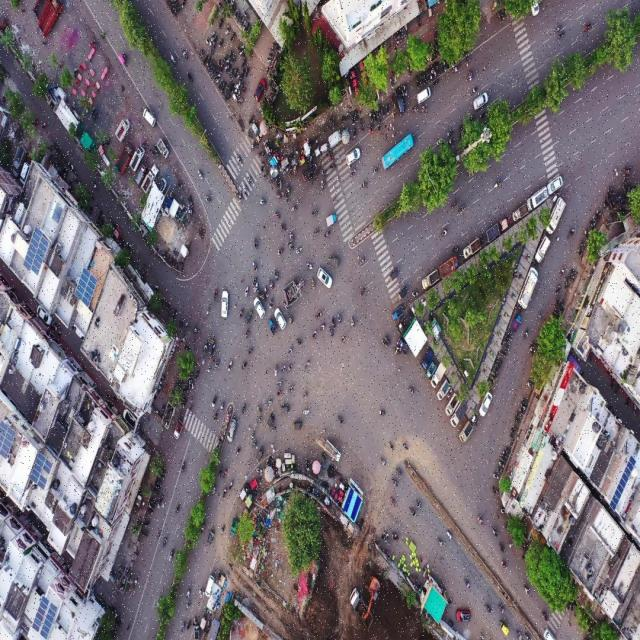3W: (499, 618, 510, 638), (328, 254, 341, 270), (325, 213, 338, 228), (116, 51, 127, 68), (397, 285, 408, 301), (388, 267, 398, 284), (207, 529, 216, 547), (245, 309, 254, 327), (292, 420, 303, 432), (266, 413, 275, 427), (256, 448, 264, 463), (279, 405, 291, 415), (208, 339, 215, 354)
Bus: (380, 132, 416, 171)
Cars: (534, 237, 550, 264), (317, 266, 333, 292), (226, 416, 239, 445), (141, 105, 156, 129), (548, 173, 564, 195), (470, 93, 489, 111), (345, 146, 361, 167), (253, 78, 267, 101), (480, 391, 492, 416), (252, 299, 266, 320), (395, 87, 405, 115), (275, 307, 287, 329), (221, 288, 229, 319), (455, 608, 471, 623), (206, 573, 216, 596), (416, 88, 431, 103)
LCV: (518, 267, 539, 310), (545, 198, 567, 233), (528, 184, 549, 213), (140, 165, 158, 193), (439, 255, 458, 280), (432, 361, 447, 389), (422, 269, 440, 292), (462, 237, 481, 258), (131, 143, 145, 170), (115, 116, 130, 141), (460, 420, 474, 445), (445, 392, 458, 417), (510, 204, 529, 221), (157, 137, 169, 162), (396, 313, 410, 334), (437, 380, 450, 400), (421, 349, 434, 369), (328, 129, 341, 148), (397, 337, 408, 356), (391, 305, 404, 321), (426, 362, 436, 381), (512, 315, 522, 333), (174, 421, 183, 440)
M2W: (457, 202, 466, 216), (314, 307, 322, 322), (408, 505, 416, 520), (492, 179, 502, 191), (554, 20, 564, 32), (407, 385, 416, 398), (390, 476, 399, 489), (440, 226, 449, 239), (567, 228, 576, 241), (349, 315, 356, 331), (541, 609, 549, 623), (288, 232, 297, 244), (497, 603, 506, 615), (476, 515, 485, 527), (379, 408, 388, 420), (514, 628, 523, 640), (309, 276, 316, 291), (359, 284, 366, 299), (379, 454, 387, 467), (554, 284, 562, 297), (289, 204, 299, 214), (317, 180, 327, 190), (214, 357, 221, 371), (340, 332, 348, 344), (286, 345, 294, 357), (273, 363, 279, 379), (169, 548, 175, 564), (161, 535, 167, 551), (490, 526, 498, 538), (186, 71, 194, 83), (559, 265, 567, 277), (335, 311, 342, 324), (252, 260, 259, 273), (196, 168, 203, 181), (242, 186, 249, 199), (287, 313, 294, 326), (446, 529, 453, 542), (500, 558, 507, 571), (169, 54, 176, 67), (522, 328, 529, 341), (72, 68, 79, 81), (300, 171, 307, 184), (244, 285, 250, 300), (264, 398, 273, 408), (212, 286, 218, 301), (372, 165, 381, 175), (583, 22, 592, 32), (451, 244, 460, 254), (485, 603, 493, 614), (522, 585, 530, 596), (247, 175, 254, 187), (268, 295, 274, 309), (306, 260, 313, 272), (269, 279, 276, 291), (240, 402, 246, 416), (211, 394, 217, 408), (212, 409, 218, 423), (175, 503, 181, 517), (180, 620, 186, 634), (187, 618, 193, 632), (397, 468, 403, 482), (390, 496, 396, 510), (437, 537, 444, 549), (464, 578, 471, 590), (498, 542, 505, 554), (182, 49, 189, 61), (92, 180, 99, 192), (467, 71, 474, 83), (243, 10, 250, 22), (204, 194, 213, 203), (277, 248, 286, 257), (311, 208, 320, 217), (414, 500, 423, 509), (258, 197, 266, 207), (235, 156, 243, 166), (287, 241, 295, 251), (246, 346, 254, 356), (295, 247, 303, 257), (451, 199, 459, 209), (418, 104, 426, 114), (411, 105, 419, 115), (336, 414, 344, 424), (358, 254, 366, 264), (227, 358, 233, 371), (239, 306, 245, 319), (180, 461, 186, 474), (220, 400, 226, 413), (90, 103, 96, 116), (93, 108, 99, 121), (195, 367, 201, 380), (389, 78, 395, 91), (577, 247, 583, 260), (218, 16, 224, 29), (230, 30, 236, 43), (311, 328, 318, 339), (280, 222, 287, 233), (244, 328, 251, 339), (185, 588, 192, 599), (524, 629, 531, 640), (304, 358, 310, 370), (295, 339, 304, 347), (281, 362, 287, 374), (312, 228, 320, 237), (251, 275, 257, 287), (256, 416, 264, 425), (200, 521, 206, 533), (402, 443, 410, 452), (446, 128, 454, 137), (470, 86, 478, 95), (153, 145, 159, 157), (259, 161, 265, 173), (263, 169, 269, 181), (274, 192, 282, 201), (353, 110, 359, 122), (519, 402, 527, 411), (579, 239, 585, 251), (225, 24, 231, 36), (239, 44, 245, 56), (240, 82, 246, 94), (211, 30, 217, 42), (210, 41, 216, 53), (222, 52, 228, 64), (241, 361, 248, 371), (253, 237, 258, 251), (274, 268, 279, 282), (276, 387, 283, 397), (251, 439, 258, 449), (212, 483, 217, 497), (320, 169, 327, 179), (264, 287, 270, 298), (235, 446, 241, 457), (228, 479, 234, 490), (185, 600, 191, 611), (351, 116, 357, 127), (202, 54, 208, 65), (331, 316, 336, 329), (250, 428, 255, 441), (223, 486, 228, 499), (385, 104, 390, 117), (286, 363, 293, 372), (288, 384, 295, 393), (302, 391, 309, 400), (277, 379, 284, 388), (447, 137, 454, 146), (361, 181, 368, 190), (558, 30, 565, 39), (141, 530, 148, 539), (143, 521, 150, 530), (193, 326, 200, 335), (492, 472, 499, 481), (497, 459, 504, 468), (498, 351, 507, 358), (491, 367, 500, 374), (246, 131, 253, 140), (328, 327, 334, 337), (320, 322, 326, 332), (275, 210, 281, 220), (389, 440, 394, 452), (350, 168, 356, 178), (204, 338, 208, 353), (327, 151, 333, 161), (360, 121, 364, 136), (368, 123, 373, 135), (403, 85, 408, 97), (241, 58, 247, 68), (206, 55, 212, 65), (223, 467, 227, 481), (381, 340, 388, 348), (146, 508, 153, 516), (284, 191, 288, 205), (452, 66, 459, 74), (526, 381, 534, 388), (503, 345, 510, 353), (569, 269, 577, 276), (149, 147, 154, 158), (352, 127, 357, 138), (588, 219, 593, 230), (229, 67, 234, 78), (228, 48, 233, 59), (216, 73, 221, 84), (253, 283, 258, 294), (437, 136, 443, 145), (149, 498, 158, 504), (269, 177, 275, 186), (433, 79, 439, 88), (412, 289, 418, 298), (385, 336, 391, 345), (503, 340, 512, 346), (568, 273, 574, 282), (206, 38, 212, 47), (218, 39, 224, 48), (198, 49, 204, 58), (219, 65, 225, 74), (266, 56, 272, 65), (219, 466, 223, 479), (221, 523, 225, 536), (279, 177, 283, 190), (276, 176, 280, 189), (564, 276, 568, 289), (286, 184, 291, 194), (244, 68, 249, 78), (226, 80, 231, 90), (234, 8, 239, 18), (324, 230, 331, 237), (148, 504, 155, 511), (480, 112, 487, 119), (502, 451, 509, 458), (496, 358, 503, 365), (377, 120, 381, 132), (381, 106, 385, 118), (390, 94, 394, 106), (480, 233, 484, 245), (497, 467, 503, 475), (494, 363, 502, 369), (239, 13, 243, 25), (243, 19, 247, 31), (221, 81, 226, 90), (231, 55, 236, 64), (429, 72, 433, 83), (218, 79, 222, 90), (154, 489, 160, 496), (329, 164, 336, 170), (500, 509, 507, 515), (272, 42, 278, 49), (270, 48, 276, 55), (415, 76, 419, 86), (423, 74, 427, 84), (234, 68, 238, 78), (261, 290, 265, 300), (373, 113, 377, 122), (437, 65, 440, 77), (218, 58, 222, 67), (419, 75, 422, 86), (427, 74, 430, 85), (241, 68, 245, 75)
Truck: (39, 0, 61, 35), (116, 141, 133, 173)
